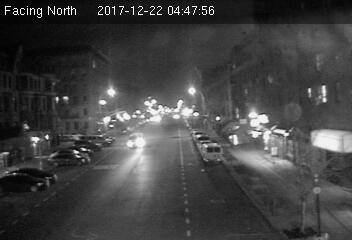car: (126, 132, 146, 150)
truck: (202, 142, 222, 162)
